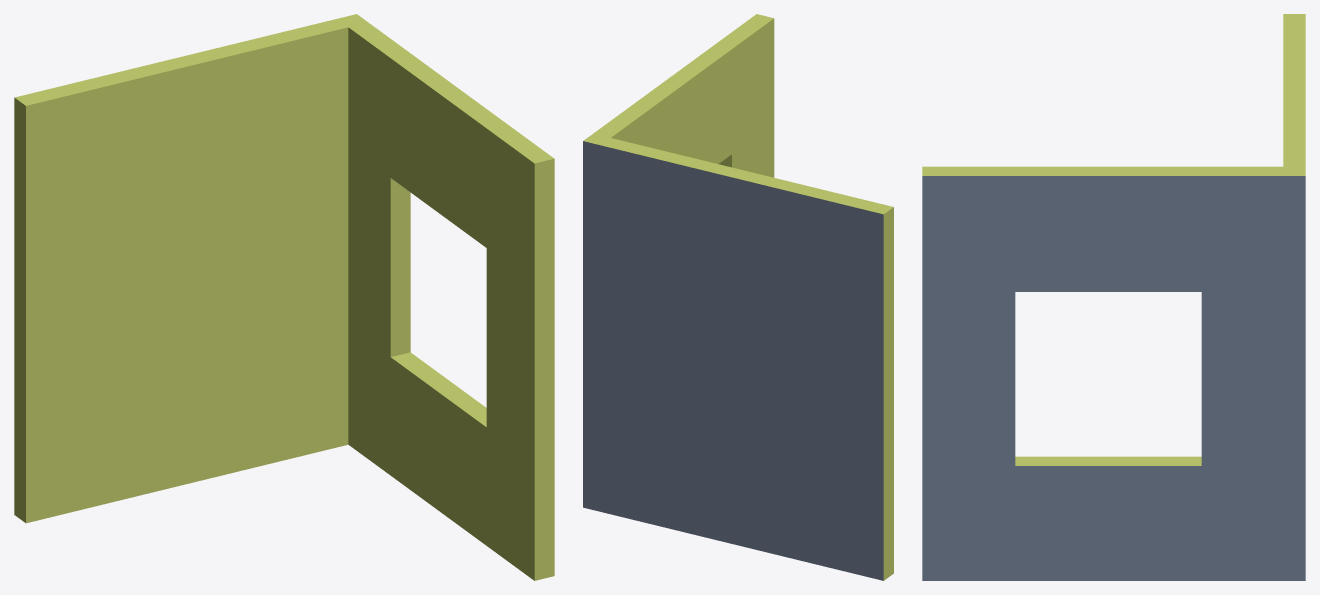
File: Wall3_C6_11.fbx
3 renders of one model, left to right at view 1: azimuth 30°, elevation 25°; view 2: azimuth 150°, elevation 25°; view 3: azimuth 270°, elevation 25°, orthographic. The views are drawn at different scales.
Parts seen in each view (by area): view 1: Wall3_C6_11; view 2: Wall3_C6_11; view 3: Wall3_C6_11.
Boxes of the visible parts, box(x1,y1,x2,y2) form: Wall3_C6_11: box(14, 14, 554, 580); Wall3_C6_11: box(583, 14, 893, 580); Wall3_C6_11: box(922, 14, 1305, 580).
Size of the model in its own units: 258 by 300 by 258.
